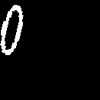chain: (0, 5, 22, 54)
